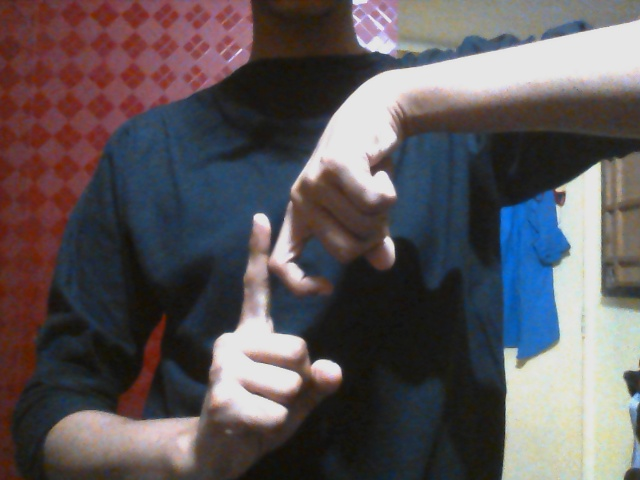K: (208, 154, 398, 460)
